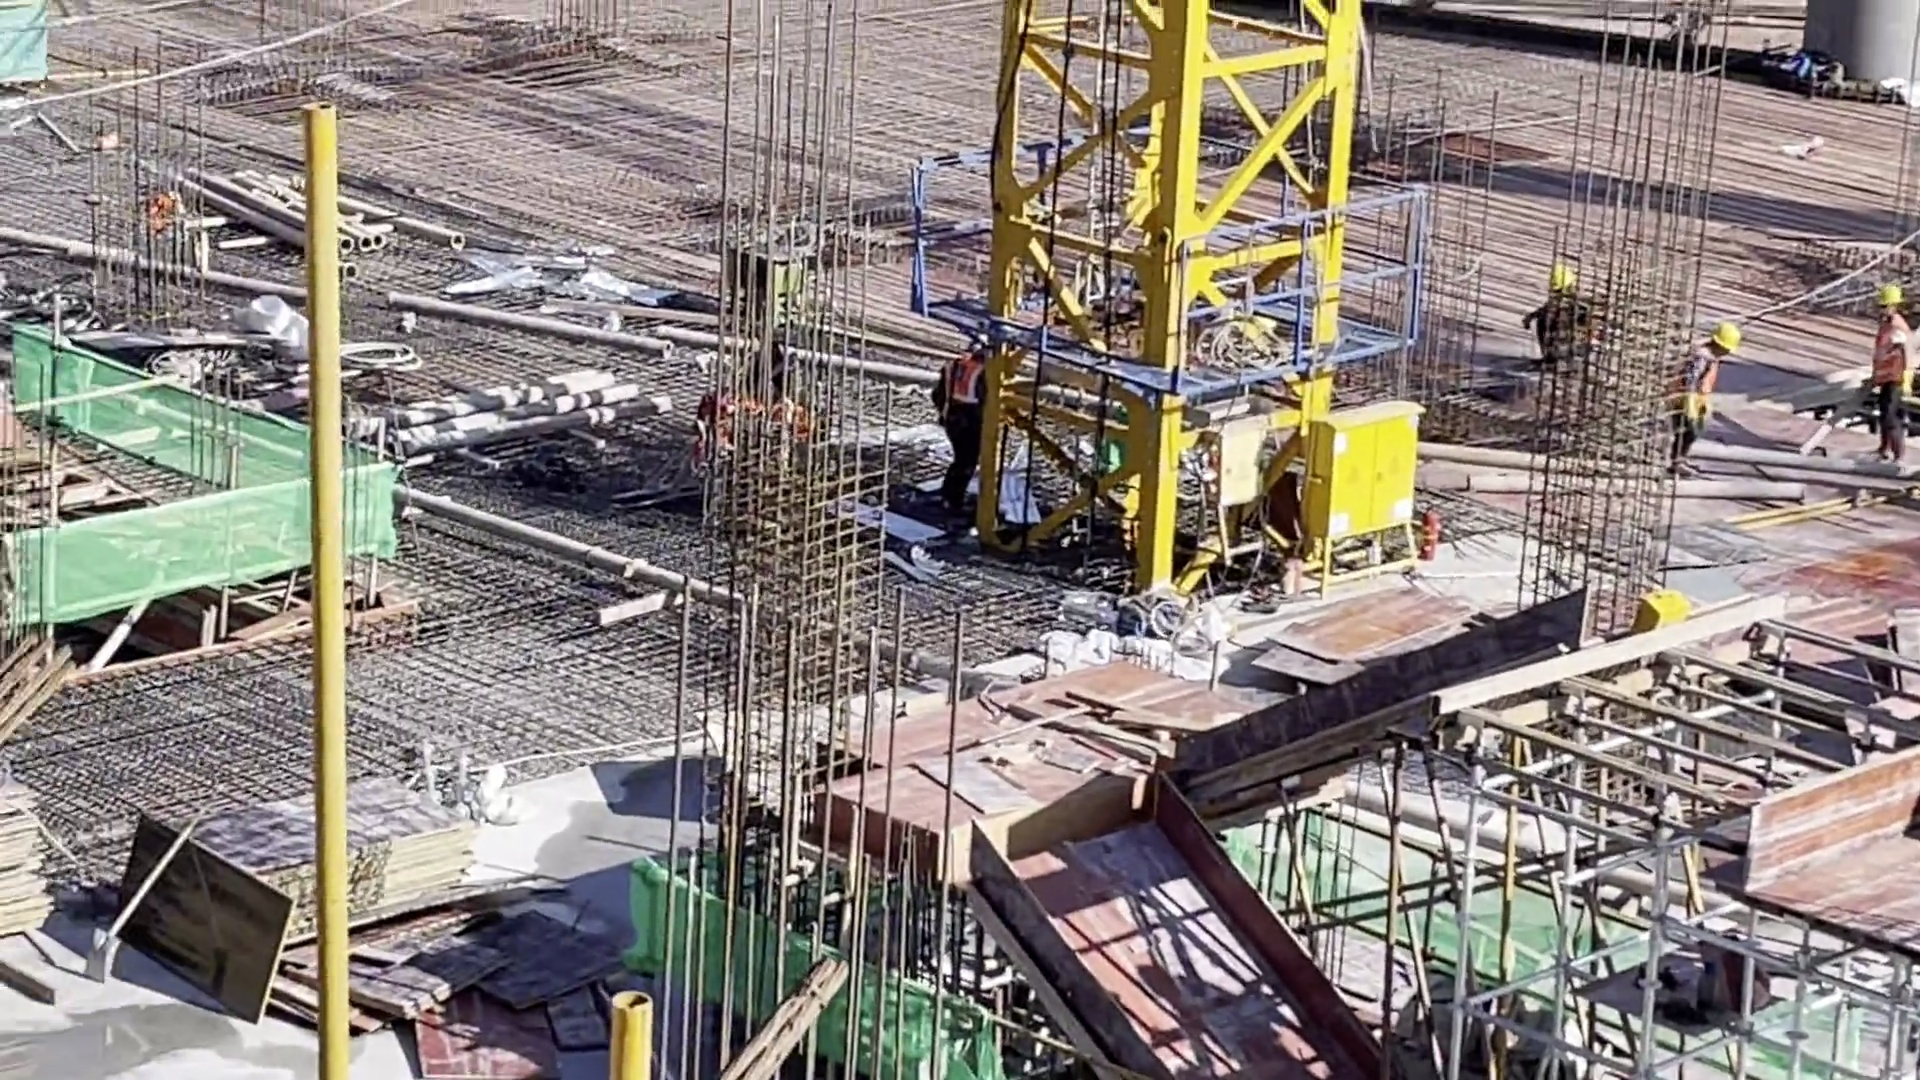ebox: (1298, 399, 1412, 572)
helmet: (1715, 321, 1739, 356), (1550, 265, 1579, 289), (1876, 286, 1903, 308)
person: (1674, 320, 1740, 485), (932, 331, 985, 529), (1867, 284, 1917, 468)
vest: (1876, 317, 1914, 394), (1679, 357, 1712, 414), (951, 358, 978, 410)
